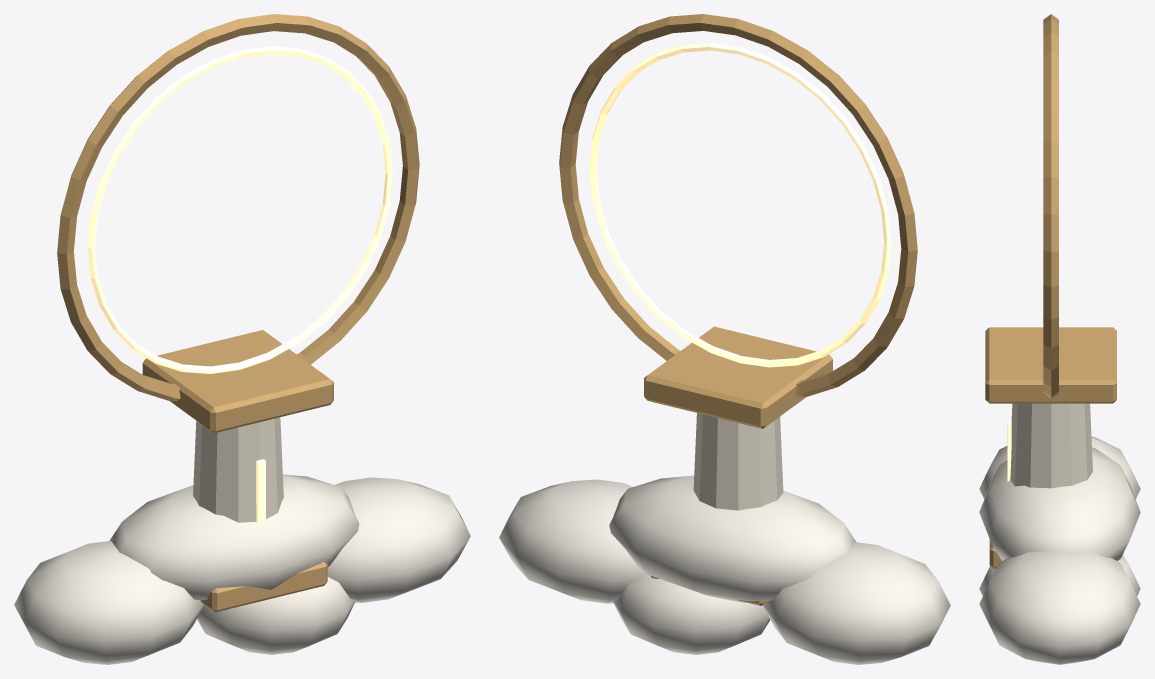
The model's file is div3_near_04_7m.glb.
The picture shows the model from 3 angles, left to right: view 1: azimuth 30°, elevation 25°; view 2: azimuth 150°, elevation 25°; view 3: azimuth 270°, elevation 25°; orthographic projection. The views are drawn at different scales.
Parts seen in each view (by area): view 1: div3_near_04_7m__cloud-cream, div3_near_04_7m__satin-honey-brass, div3_near_04_7m__warm-luminous, div3_near_04_7m__porcelain-ivory; view 2: div3_near_04_7m__cloud-cream, div3_near_04_7m__satin-honey-brass, div3_near_04_7m__warm-luminous, div3_near_04_7m__porcelain-ivory; view 3: div3_near_04_7m__cloud-cream, div3_near_04_7m__satin-honey-brass, div3_near_04_7m__porcelain-ivory, div3_near_04_7m__warm-luminous.
Boxes of the visible parts, bbox=[...] form: div3_near_04_7m__cloud-cream: bbox=[14, 474, 470, 664]; div3_near_04_7m__satin-honey-brass: bbox=[57, 14, 419, 612]; div3_near_04_7m__warm-luminous: bbox=[87, 46, 392, 524]; div3_near_04_7m__porcelain-ivory: bbox=[193, 417, 283, 522]; div3_near_04_7m__cloud-cream: bbox=[499, 475, 950, 664]; div3_near_04_7m__satin-honey-brass: bbox=[559, 14, 917, 605]; div3_near_04_7m__warm-luminous: bbox=[589, 43, 891, 367]; div3_near_04_7m__porcelain-ivory: bbox=[693, 413, 783, 510]; div3_near_04_7m__cloud-cream: bbox=[979, 436, 1140, 664]; div3_near_04_7m__satin-honey-brass: bbox=[985, 14, 1116, 568]; div3_near_04_7m__porcelain-ivory: bbox=[1010, 403, 1092, 488]; div3_near_04_7m__warm-luminous: bbox=[1007, 421, 1011, 481].
Size of the model in its own units: 5.29 by 7.36 by 1.84.
